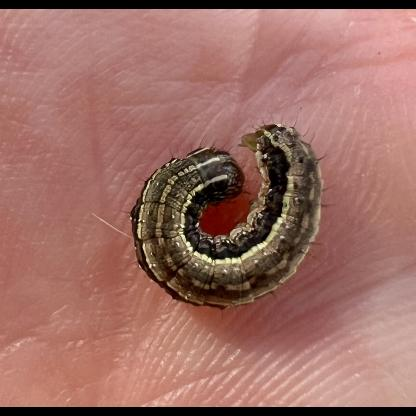Fall Armyworm Larvae: (119, 113, 342, 324)
